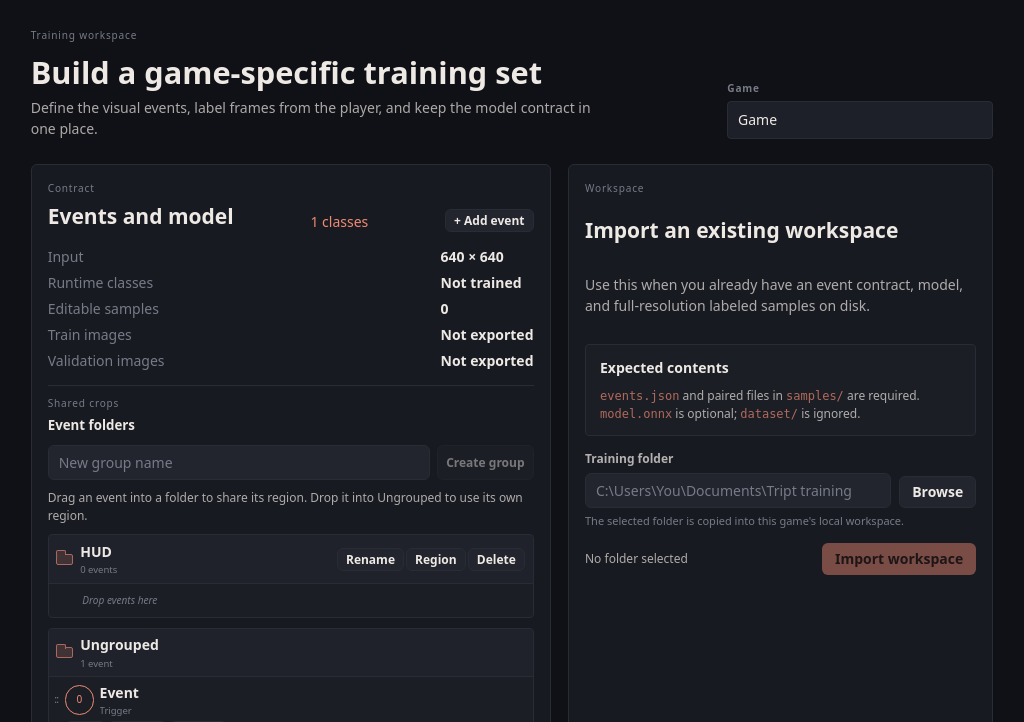
TrainingView sample gallery › warns that changed regions need a new install when a model exists
Click the button "Region" in the row of "HUD" at (436, 559), box 406,548 -> 466,571
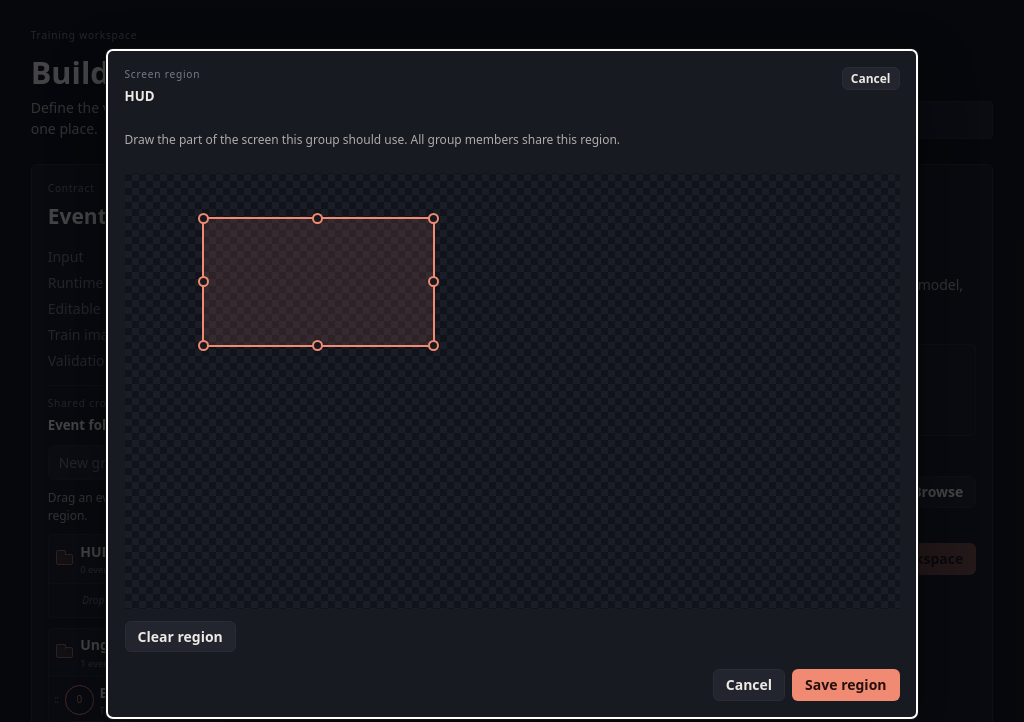
Click the button "Clear region" at (180, 637), box 124,621 -> 236,652
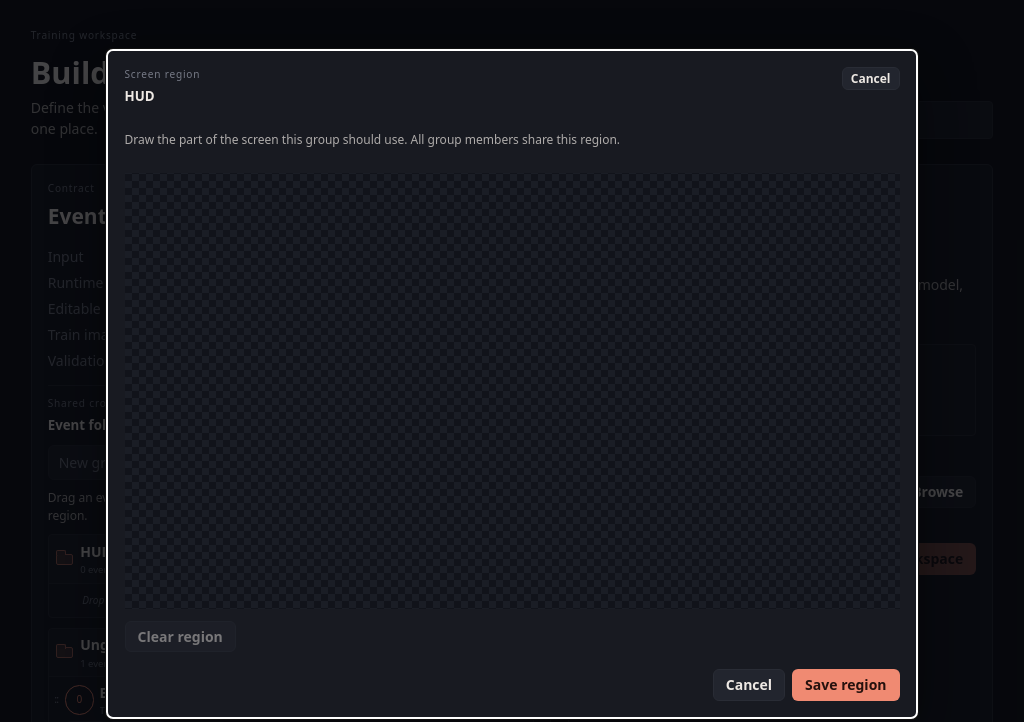
Click the button "Save region" at (846, 685), box 792,669 -> 900,701
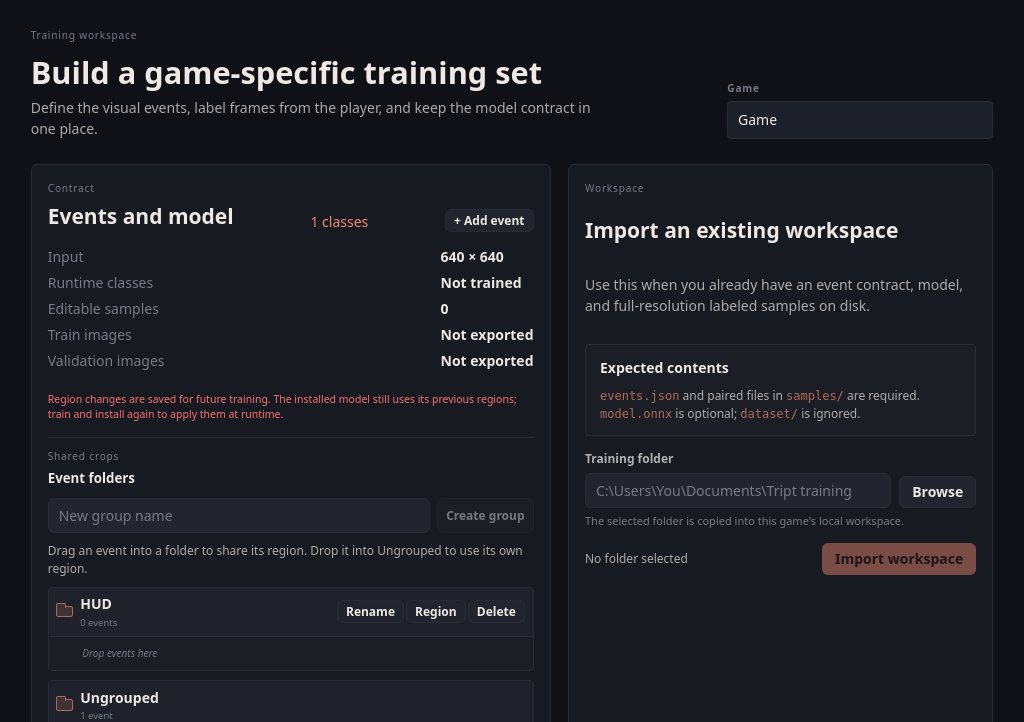
Now the message shows "installed model still uses its previous regions", box 48,392 -> 517,421
